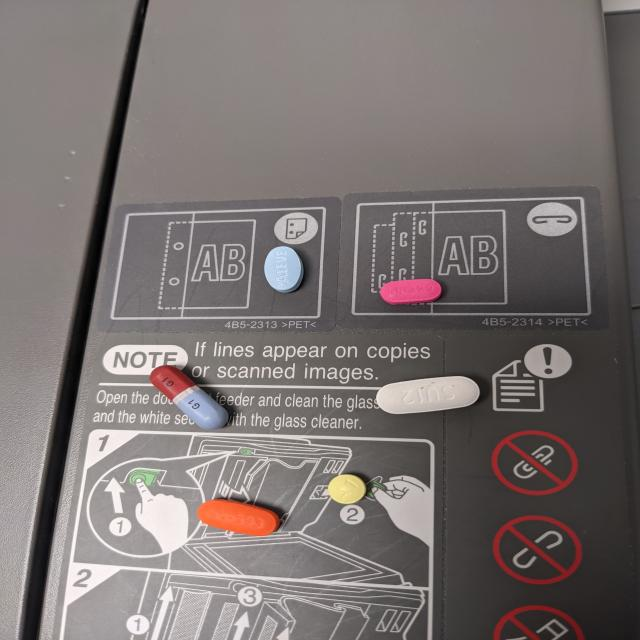non-organic waste: (149, 364, 230, 432), (374, 375, 482, 415), (197, 498, 281, 536), (264, 245, 304, 294), (379, 278, 442, 305), (327, 473, 367, 504)
